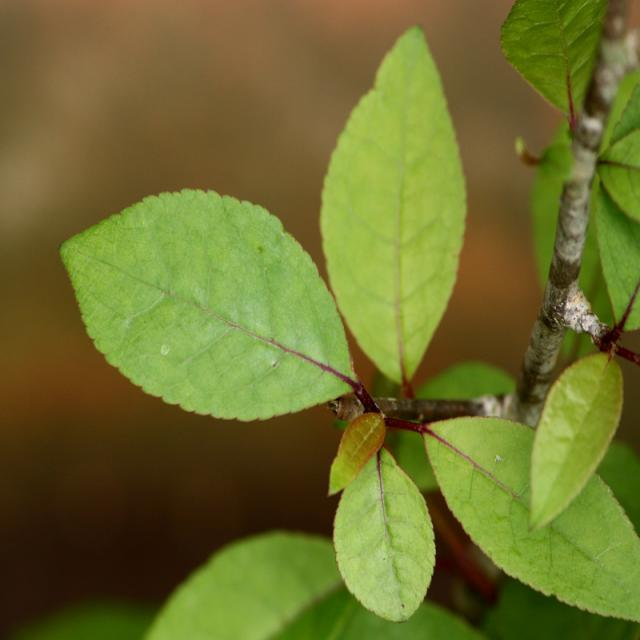Gugal: (23, 29, 614, 618)
